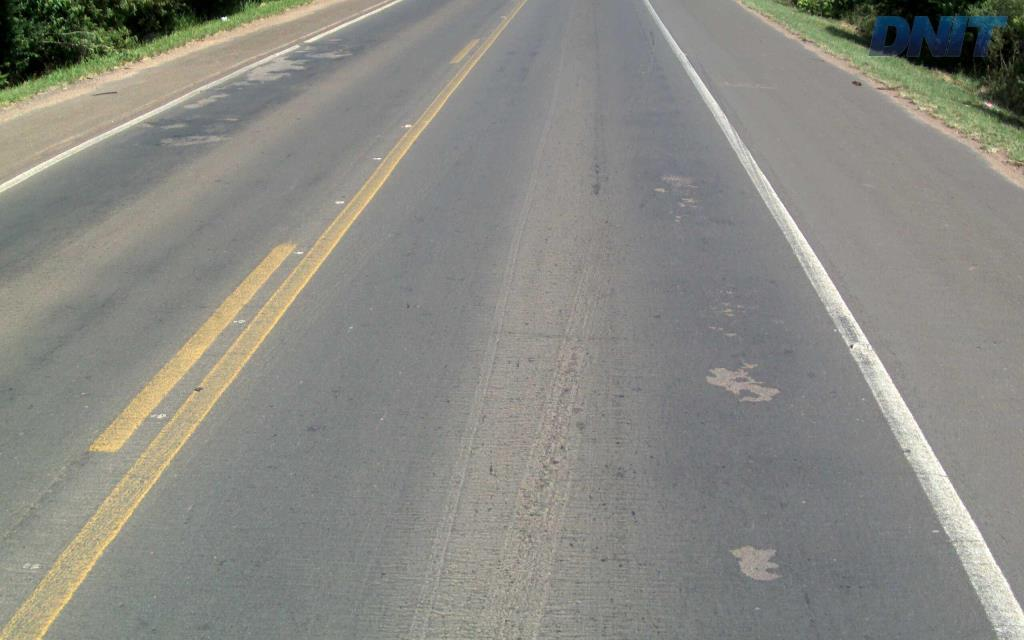pothole: (700, 353, 783, 403), (723, 539, 791, 584)
